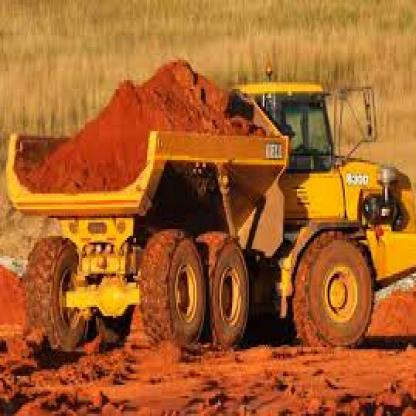dump_truck: (9, 34, 414, 360)
